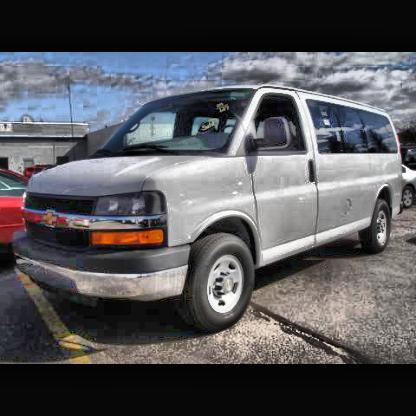Chevrolet Express Van 2007: (8, 84, 407, 337)
